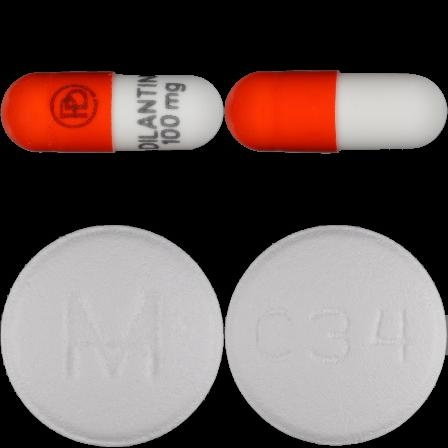43353-131: (0, 0, 224, 224)
